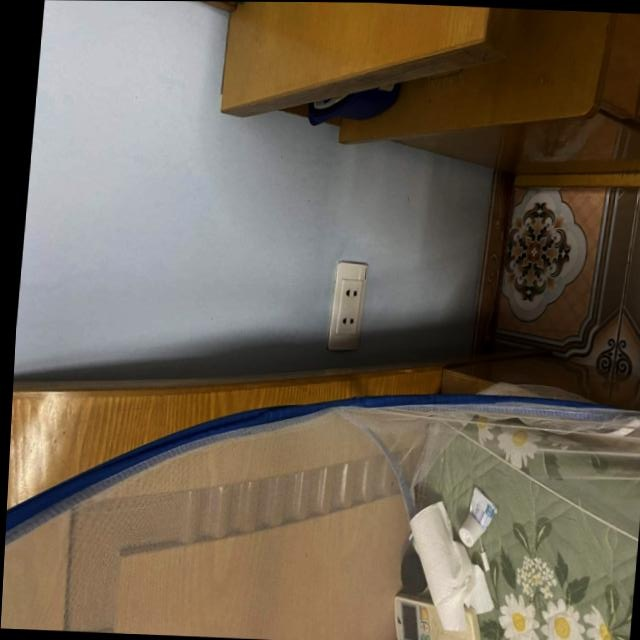outlet: (326, 262, 368, 354)
